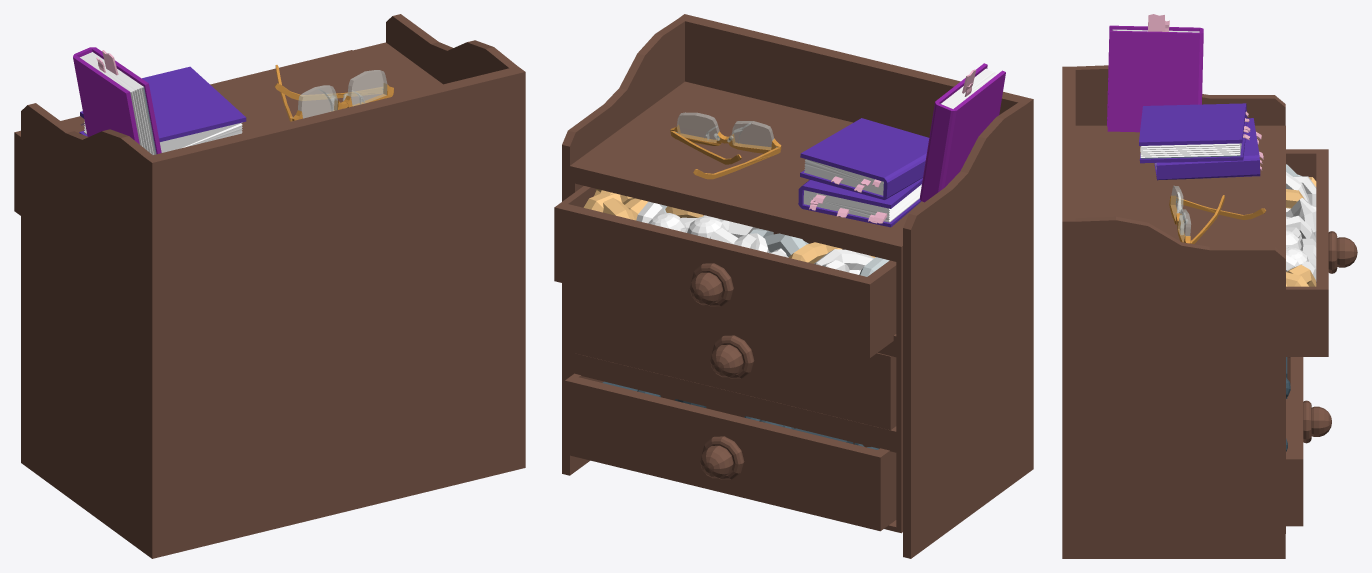
File: Drawers.glb
3 renders of one model, left to right at view 1: azimuth 30°, elevation 25°; view 2: azimuth 150°, elevation 25°; view 3: azimuth 270°, elevation 25°, orthographic. The views are drawn at different scales.
Parts seen in each view (by area): view 1: group466765990, group805121745, group219194536, group1611969684, group146156432, group1500292528, group695908064; view 2: group219194536, group805121745, group542564111, group256607744, group466765990, group146156432, group1500292528, group1371358519, group1611969684, group695908064, group1235977447, group374879780 (+1 smaller); view 3: group1500292528, group219194536, group1611969684, group146156432, group466765990, group542564111, group805121745, group695908064, group777992579, group2137630979, group1223692797.
Part boxes in pixels (x1,y1,x2,y2): group466765990: (144, 66, 525, 558); group805121745: (21, 103, 152, 552); group219194536: (14, 42, 442, 215); group1611969684: (73, 47, 161, 154); group146156432: (79, 66, 246, 152); group1500292528: (386, 14, 517, 84); group695908064: (274, 65, 393, 121); group219194536: (554, 81, 924, 357); group805121745: (903, 102, 1026, 558); group542564111: (565, 373, 896, 531); group256607744: (575, 286, 896, 430); group466765990: (677, 14, 1033, 474); group146156432: (798, 118, 929, 227); group1500292528: (562, 19, 684, 475); group1371358519: (569, 357, 902, 533); group1611969684: (920, 63, 1005, 202); group695908064: (670, 112, 781, 179); group1235977447: (569, 285, 902, 437); group374879780: (814, 249, 873, 270); group1500292528: (1075, 216, 1285, 558); group219194536: (1075, 125, 1357, 359); group1611969684: (1107, 14, 1203, 132); group146156432: (1139, 103, 1263, 180); group466765990: (1062, 66, 1075, 558); group542564111: (1286, 357, 1331, 526); group805121745: (1075, 65, 1285, 125); group695908064: (1169, 185, 1265, 243); group777992579: (1286, 198, 1316, 238); group2137630979: (1300, 238, 1316, 282); group1223692797: (1286, 215, 1316, 242).
Bounding box in the file's own units: 2.22 × 2.63 × 1.79.
